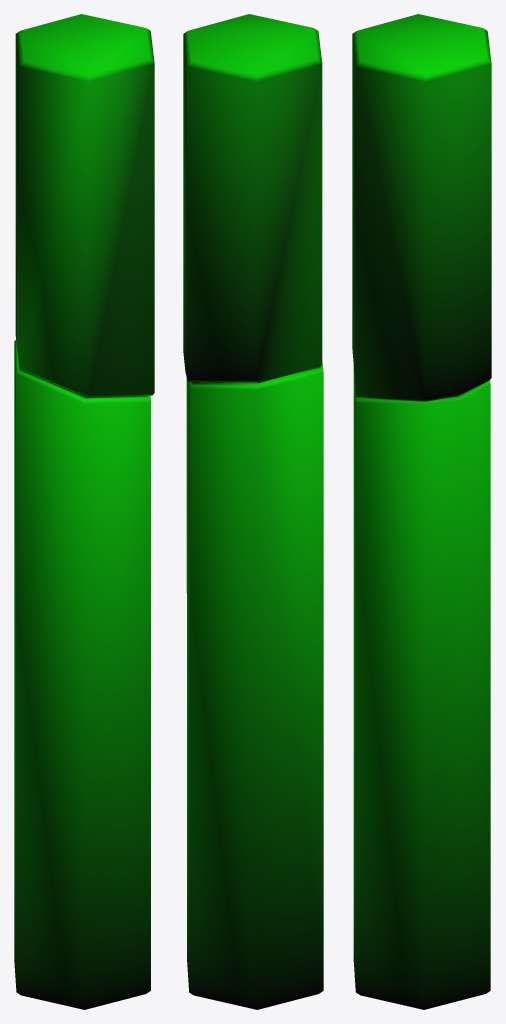
File: SM_RockHexic_Piece17.fbx
3 renders of one model, left to right at view 1: azimuth 30°, elevation 25°; view 2: azimuth 150°, elevation 25°; view 3: azimuth 270°, elevation 25°, orthographic.
Visible parts, largest first — view 1: SM_RockHexic_Piece17; view 2: SM_RockHexic_Piece17; view 3: SM_RockHexic_Piece17.
Boxes of the visible parts, box(x1,y1,x2,y2) form: SM_RockHexic_Piece17: box(14, 14, 154, 1009); SM_RockHexic_Piece17: box(183, 14, 323, 1009); SM_RockHexic_Piece17: box(352, 14, 491, 1009).
Bounding box in the file's own units: 406 × 356 × 2641.
